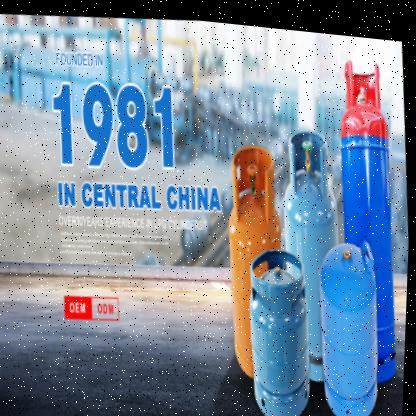gas-tank: (324, 37, 415, 390), (269, 114, 361, 401), (212, 123, 299, 384), (314, 229, 396, 415), (242, 236, 323, 415)
